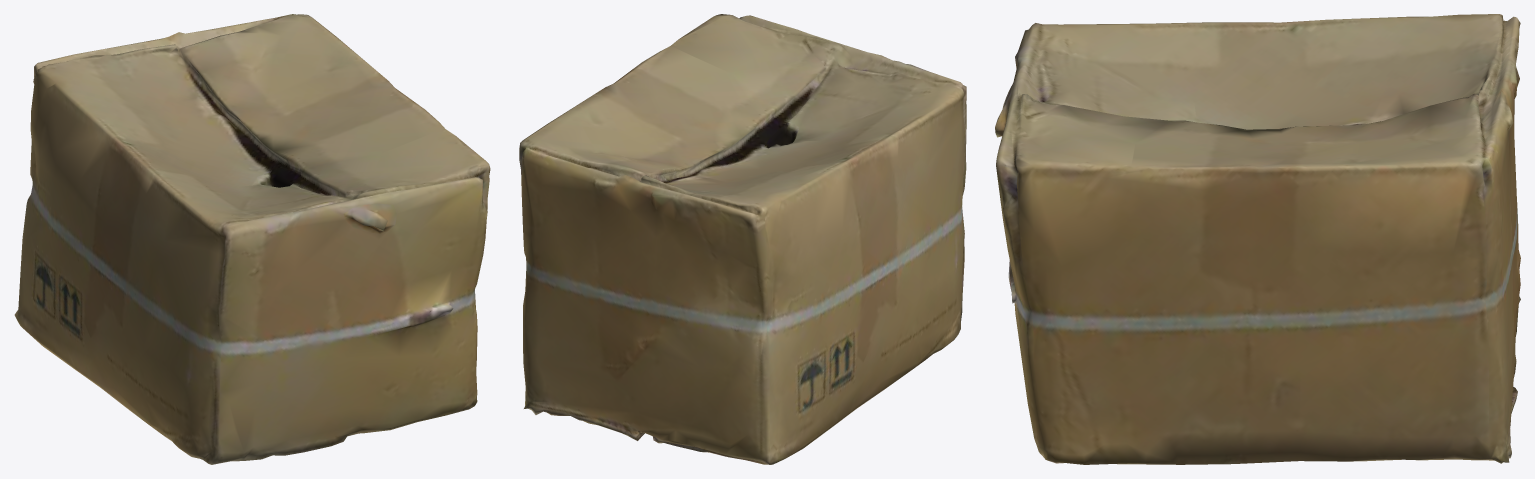
File: box-cardboard.glb
The picture shows the model from 3 angles, left to right: view 1: azimuth 30°, elevation 25°; view 2: azimuth 150°, elevation 25°; view 3: azimuth 270°, elevation 25°; orthographic projection. The views are drawn at different scales.
Visible parts, largest first — view 1: cardboard_box_01; view 2: cardboard_box_01; view 3: cardboard_box_01.
Boxes of the visible parts, bbox=[...] form: cardboard_box_01: bbox=[14, 14, 490, 464]; cardboard_box_01: bbox=[519, 14, 966, 464]; cardboard_box_01: bbox=[995, 14, 1520, 464].
Bounding box in the file's own units: 0.3868 × 0.3418 × 0.5159.
1 material, 1 textured.
